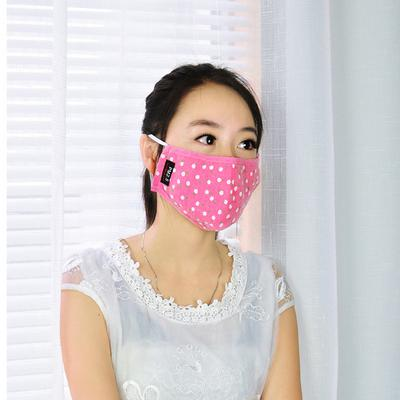OK: (153, 122, 264, 233)
